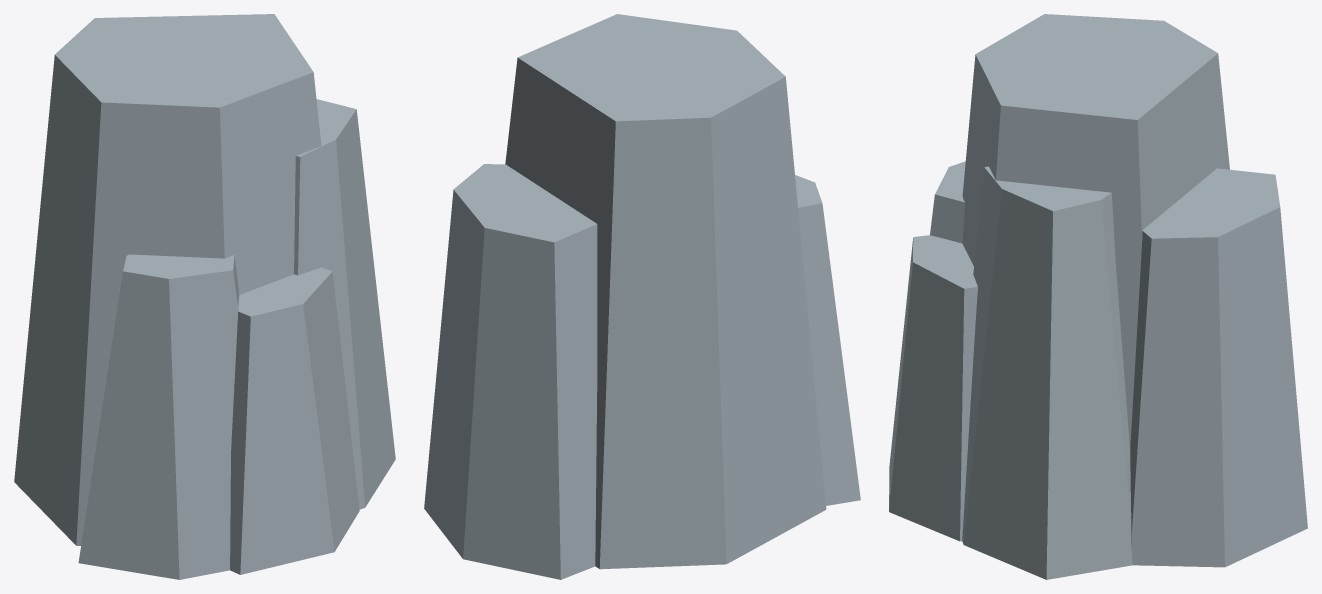
The model's file is Mountain_01.fbx.
3 renders of one model, left to right at view 1: azimuth 30°, elevation 25°; view 2: azimuth 150°, elevation 25°; view 3: azimuth 270°, elevation 25°, orthographic.
Visible parts, largest first — view 1: Mountain_01; view 2: Mountain_01; view 3: Mountain_01.
Part boxes in pixels (box(x1,y1,x2,y2)): Mountain_01: box(14, 14, 395, 579); Mountain_01: box(424, 14, 860, 579); Mountain_01: box(889, 14, 1307, 579).
Bounding box in the file's own units: 4.19 × 5 × 4.48.
